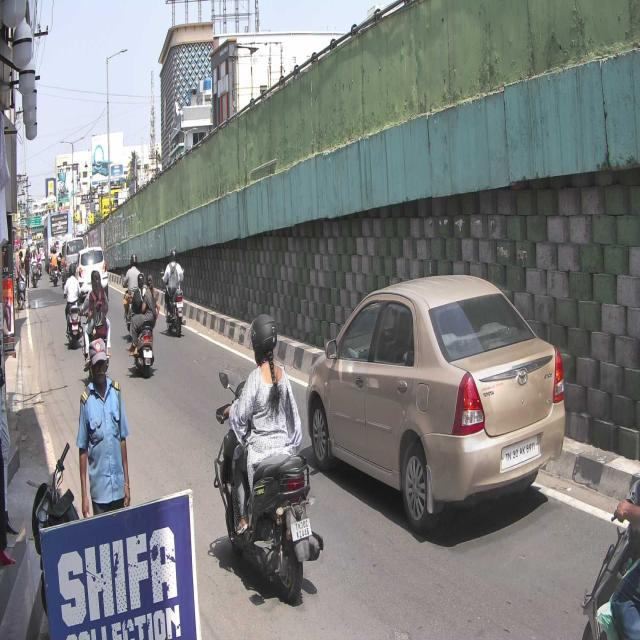single_rider: (216, 313, 324, 605)
